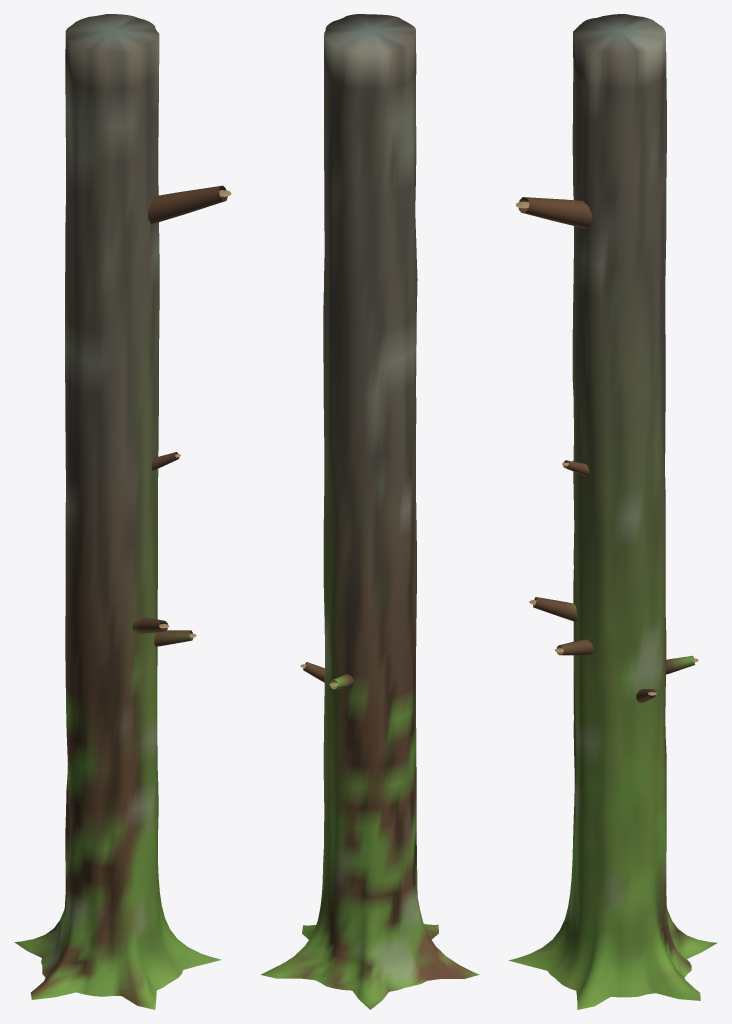
File: BgTrunk_B.fbx
3 views of the same model, side by side, from view 1: azimuth 30°, elevation 25°; view 2: azimuth 150°, elevation 25°; view 3: azimuth 270°, elevation 25° (orthographic).
Parts seen in each view (by area): view 1: BgTrunk_B; view 2: BgTrunk_B; view 3: BgTrunk_B.
Boxes of the visible parts, bbox=[...] form: BgTrunk_B: bbox=[14, 14, 231, 1009]; BgTrunk_B: bbox=[260, 14, 479, 1009]; BgTrunk_B: bbox=[508, 14, 717, 1009].
Bounding box in the file's own units: 50.11 × 244 × 49.49.
